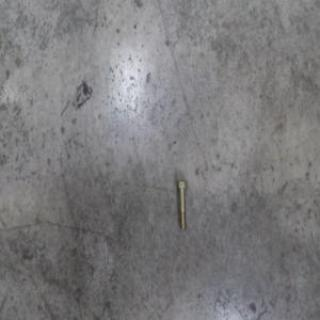Bolttrack_idkeyframe: (174, 178, 187, 230)
